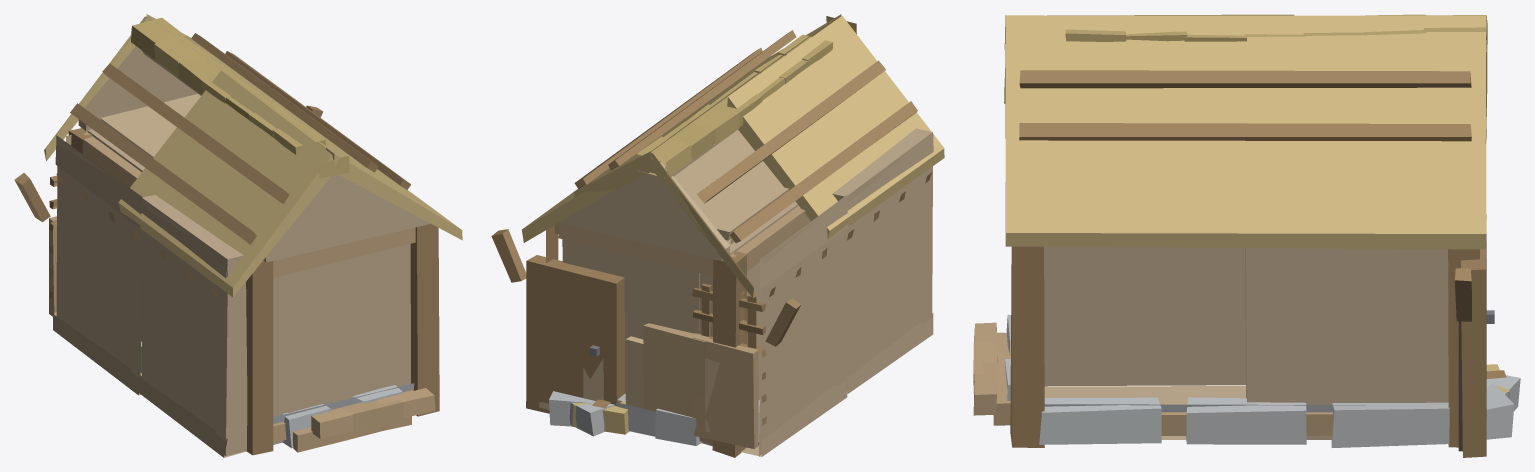
File: starter_house.glb
The picture shows the model from 3 angles, left to right: view 1: azimuth 30°, elevation 25°; view 2: azimuth 150°, elevation 25°; view 3: azimuth 270°, elevation 25°; orthographic projection. The views are drawn at different scales.
Visible parts, largest first — view 1: sh_house; view 2: sh_house; view 3: sh_house.
Part boxes in pixels (<box>): sh_house: <box>14,14,462,457</box>; sh_house: <box>491,14,944,457</box>; sh_house: <box>973,14,1520,457</box>.
Size of the model in its own units: 2.64 by 2.4 by 3.24.
